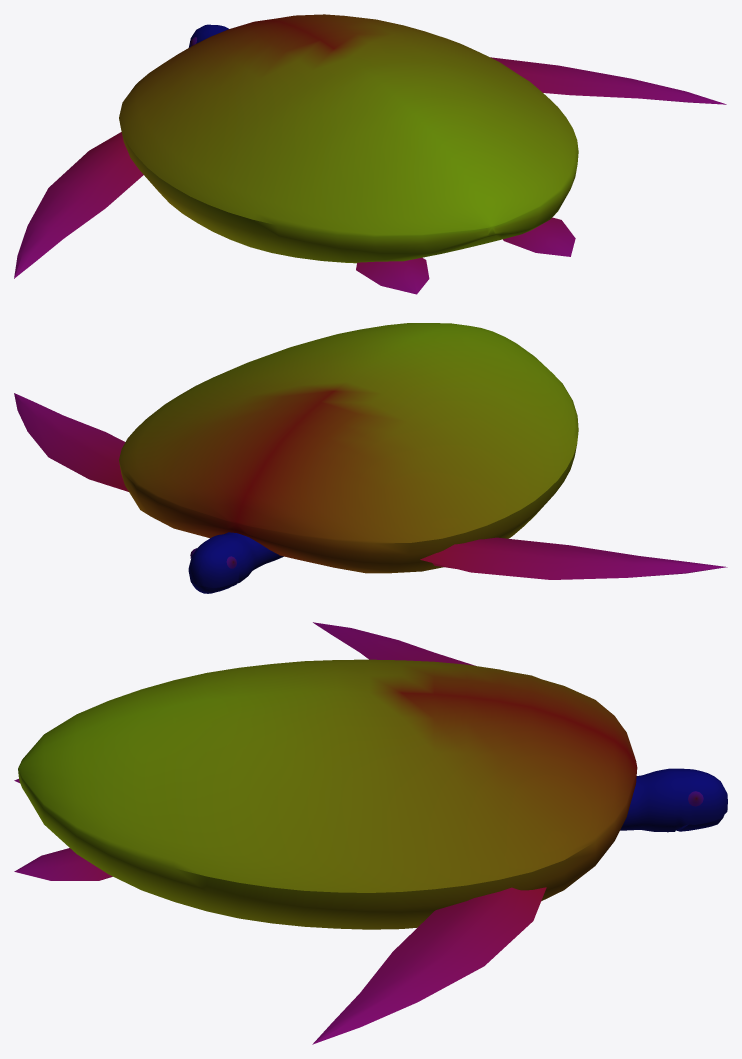
File: sea_turtle_green_lo.glb
3 views of the same model, one above another, from view 1: azimuth 30°, elevation 25°; view 2: azimuth 150°, elevation 25°; view 3: azimuth 270°, elevation 25° (orthographic). The views are drawn at different scales.
Visible parts, largest first — view 1: sea_turtle_green_lo; view 2: sea_turtle_green_lo; view 3: sea_turtle_green_lo.
Part boxes in pixels (x1,y1,x2,y2): sea_turtle_green_lo: [14, 14, 726, 294]; sea_turtle_green_lo: [14, 323, 727, 593]; sea_turtle_green_lo: [14, 622, 727, 1044].
Size of the model in its own units: 1.78 by 0.3116 by 1.27.
